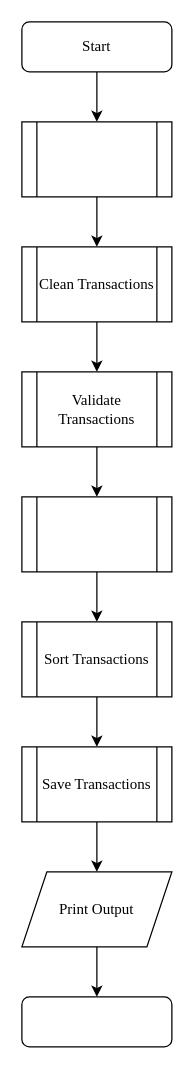
Some shapes in this 194 by 1069 pixel diagram are drawn without their labels. The shapes that lost their labels are listed below. From the top down, each one's centre as x and y in pixels, then its label:
At (96,159): "Read Transactions".
At (96,534): "Reformat Date".
At (96,1021): "End".
